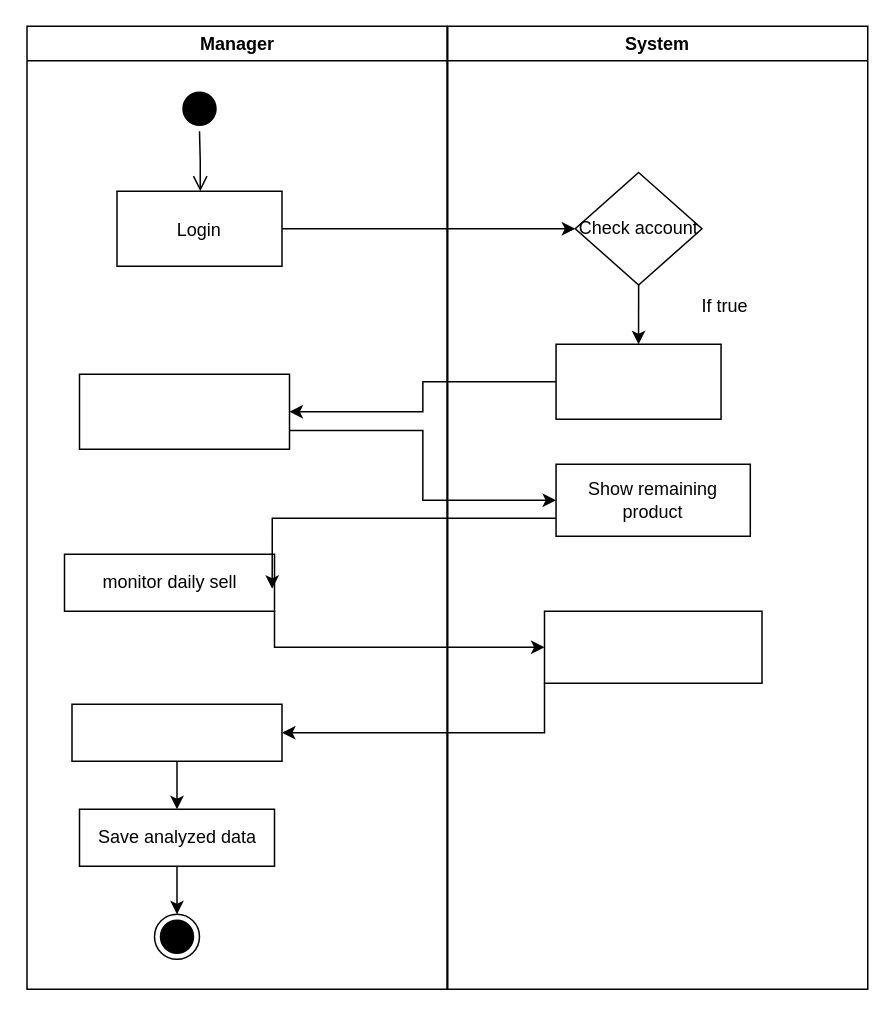
The diagram is 894 pixels wide and 1016 high, and some of its shapes have lost their labels. The shapes that lost their labels are listed below. From the top down, each one's centre as x and y in pixels, then its label:
At (x=638, y=381): "Display dashboard".
At (x=184, y=411): "Check product quantity".
At (x=652, y=646): "Display remaining record".
At (x=176, y=732): "Evaluate production per sell".
